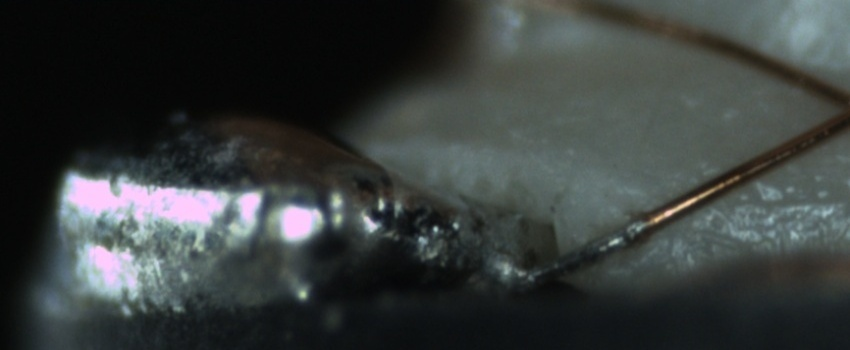CL: (805, 69, 850, 139)
DL: (707, 172, 849, 236)
TS: (519, 219, 653, 284)
TTCW: (494, 197, 676, 289)
